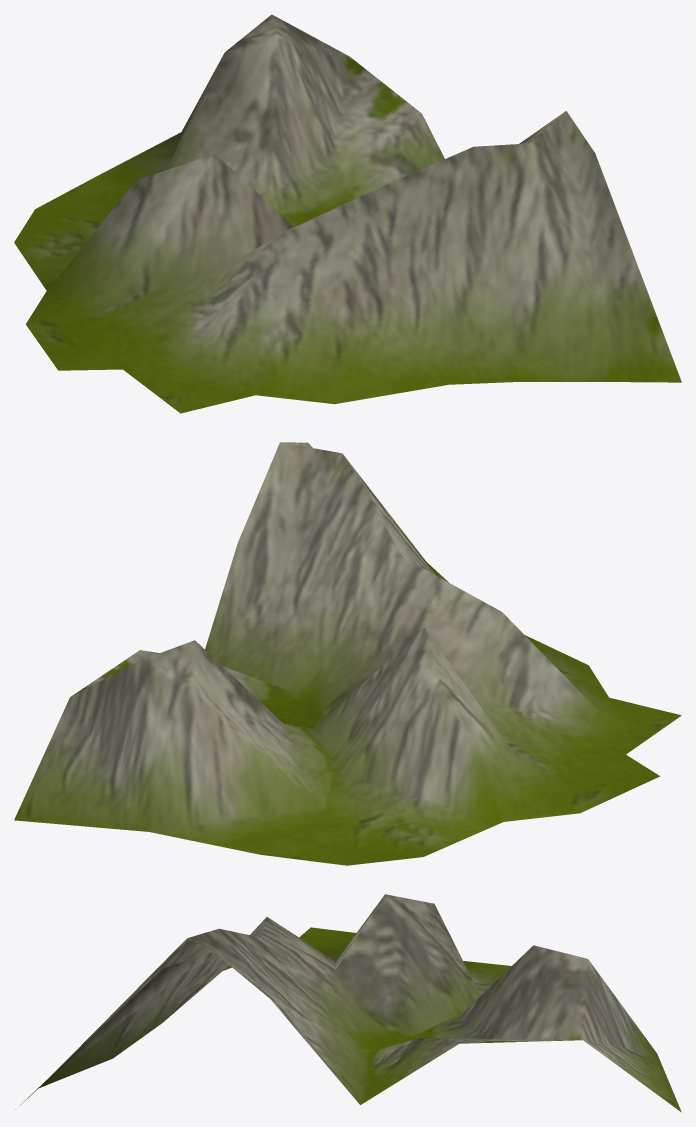
The model's file is Terrain_09.fbx.
3 renders of one model, top to bottom at view 1: azimuth 30°, elevation 25°; view 2: azimuth 150°, elevation 25°; view 3: azimuth 270°, elevation 25°, orthographic. The views are drawn at different scales.
Parts seen in each view (by area): view 1: Terrain_09; view 2: Terrain_09; view 3: Terrain_09.
Boxes of the visible parts, x1,y1,x2,y2 form: Terrain_09: (14,14,681,413); Terrain_09: (14,442,681,865); Terrain_09: (15,894,681,1112).
Bounding box in the file's own units: 14.55 × 6.01 × 21.82.
